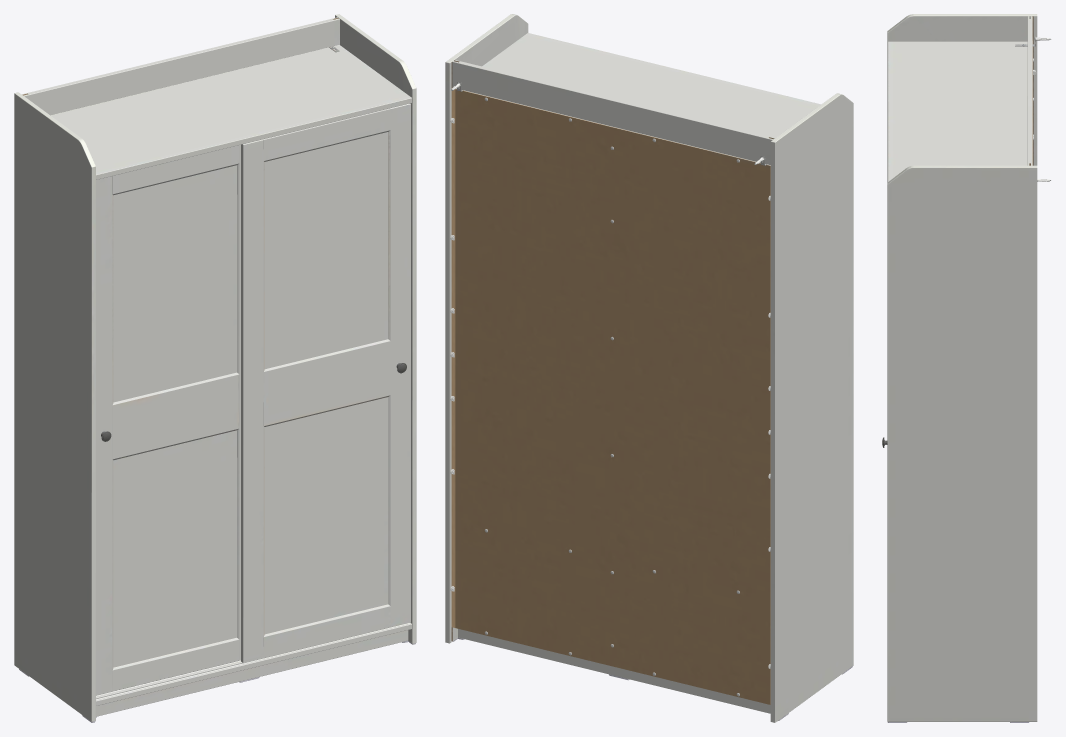
The picture shows the model from 3 angles, left to right: view 1: azimuth 30°, elevation 25°; view 2: azimuth 150°, elevation 25°; view 3: azimuth 270°, elevation 25°; orthographic projection. The views are drawn at different scales.
Visible parts, largest first — view 1: Mesh_0; view 2: Mesh_0; view 3: Mesh_0.
Boxes of the visible parts, x1,y1,x2,y2 form: Mesh_0: [14, 14, 416, 722]; Mesh_0: [445, 14, 853, 722]; Mesh_0: [882, 14, 1051, 722].
Bounding box in the file's own units: 1.18 × 1.99 × 0.55.
1 material, 1 textured.
